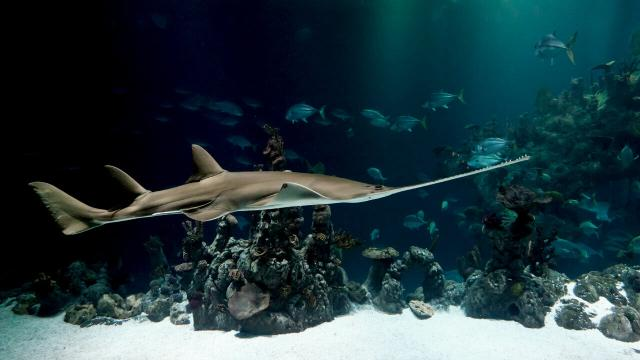Sirip Ekor: (21, 174, 109, 246)
Sirip Perut: (180, 202, 234, 224)
Sirip Punggung: (102, 142, 228, 208)
